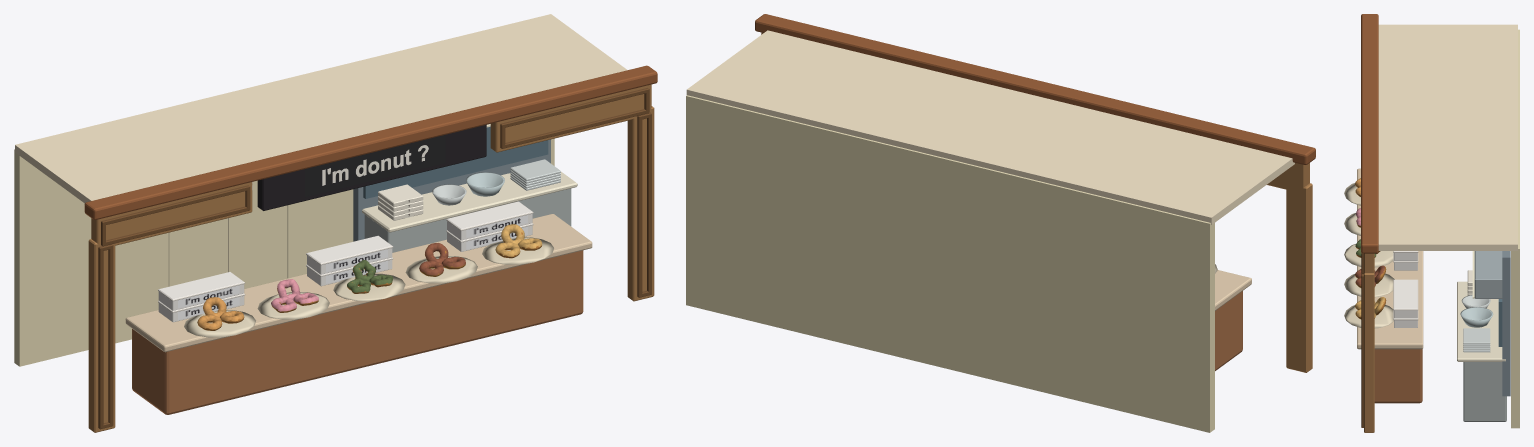
The model's file is display.glb.
3 renders of one model, left to right at view 1: azimuth 30°, elevation 25°; view 2: azimuth 150°, elevation 25°; view 3: azimuth 270°, elevation 25°, orthographic. The views are drawn at different scales.
Visible parts, largest first — view 1: Surface; view 2: Surface; view 3: Surface.
Boxes of the visible parts, left/top/right/bottom form: Surface: left=14, top=14, right=657, bottom=432; Surface: left=686, top=14, right=1315, bottom=432; Surface: left=1344, top=14, right=1519, bottom=432.
Size of the model in its own units: 8.65 by 3.31 by 2.78.
Materials: 1 (1 with a texture image).
